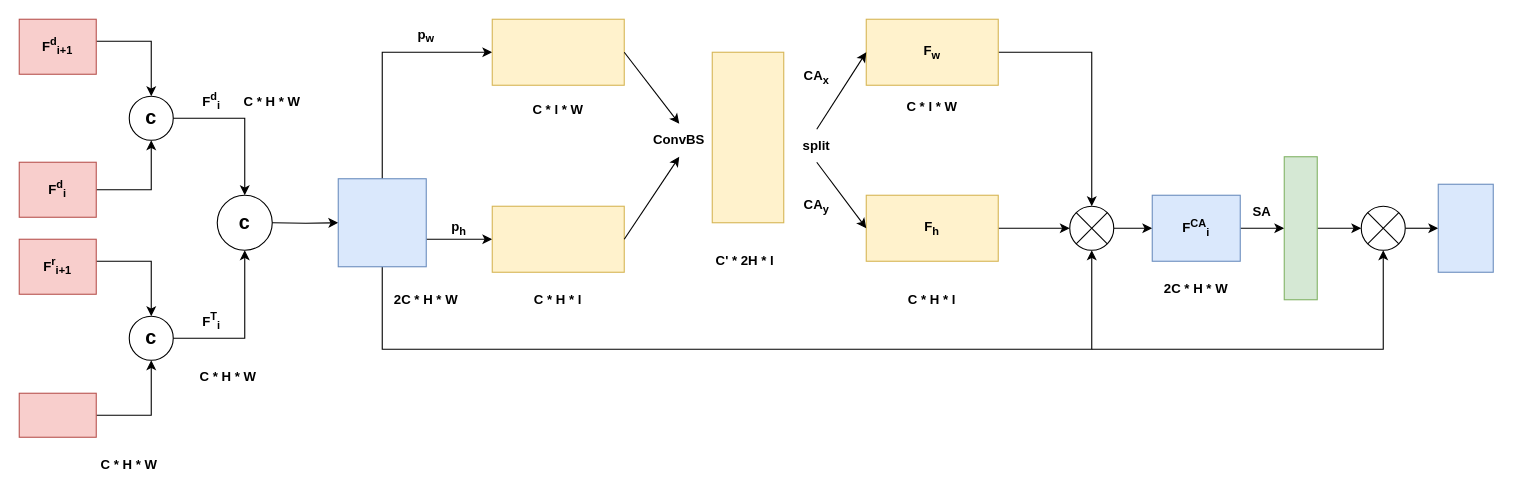
This 1513x501 diagram has some shape labels left out. The shapes that lost their labels are listed below. From the top down, each one's centre as x and y in pixels, then its label:
point 381,222: F i
point 1300,228: F S
point 1465,227: F fuse i
point 57,414: F r i
